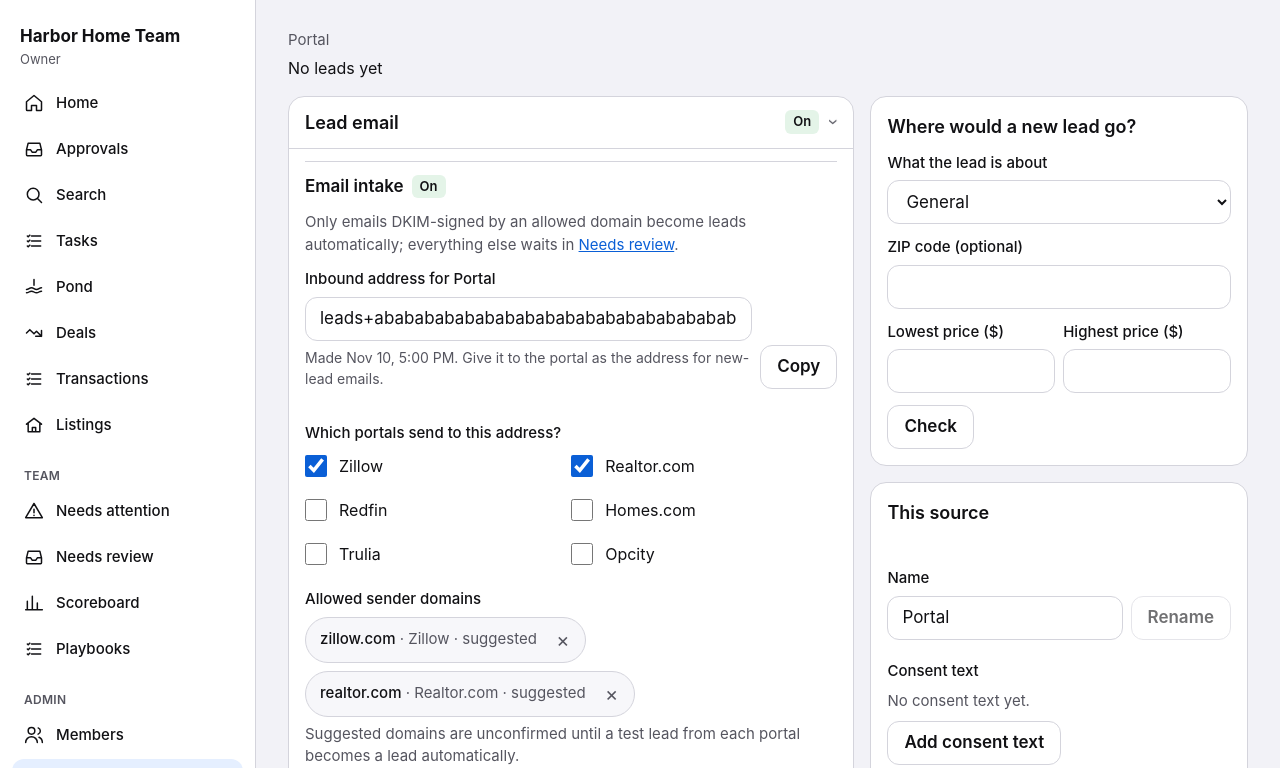
Test case: Email intake on a lead source page › when the clipboard is refused, the address is selected and the page says to copy it from the field
(page scrolled)
Click the button with aria-label "Copy the inbound address for Portal": point(799, 366) 760,344 -> 837,388
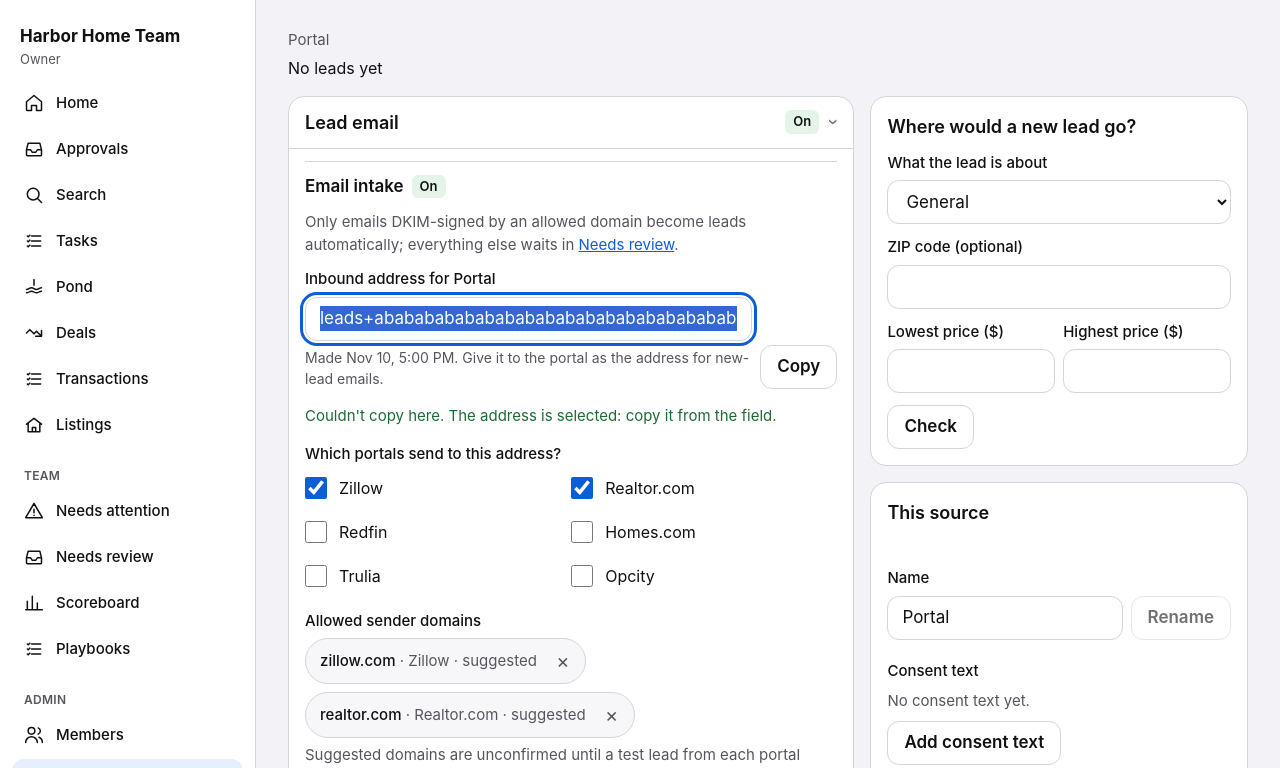
Result: the text "Couldn't copy here. The address is selected: copy it from the field." is shown at 305,404 -> 837,427
